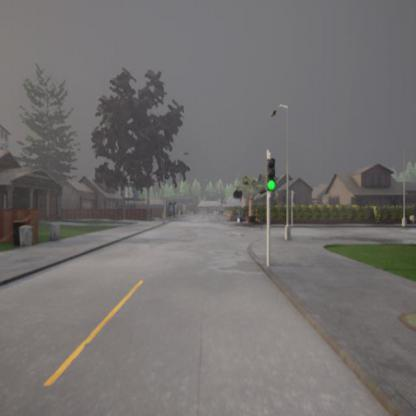traffic_light_green: (266, 157, 276, 189)
